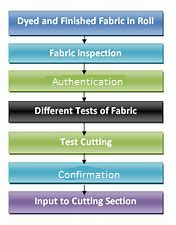arrow: (80, 121, 88, 137), (81, 152, 88, 164), (81, 61, 87, 74), (81, 90, 87, 102), (82, 183, 87, 195), (81, 34, 86, 43)
process: (7, 10, 165, 37), (7, 130, 165, 156), (7, 190, 166, 215), (7, 68, 165, 93), (7, 161, 166, 185), (7, 100, 164, 124), (7, 42, 165, 65)
text: (16, 16, 154, 26), (34, 195, 137, 207), (32, 104, 138, 115), (48, 47, 123, 59), (50, 76, 123, 86), (56, 169, 121, 179), (57, 137, 112, 148)
